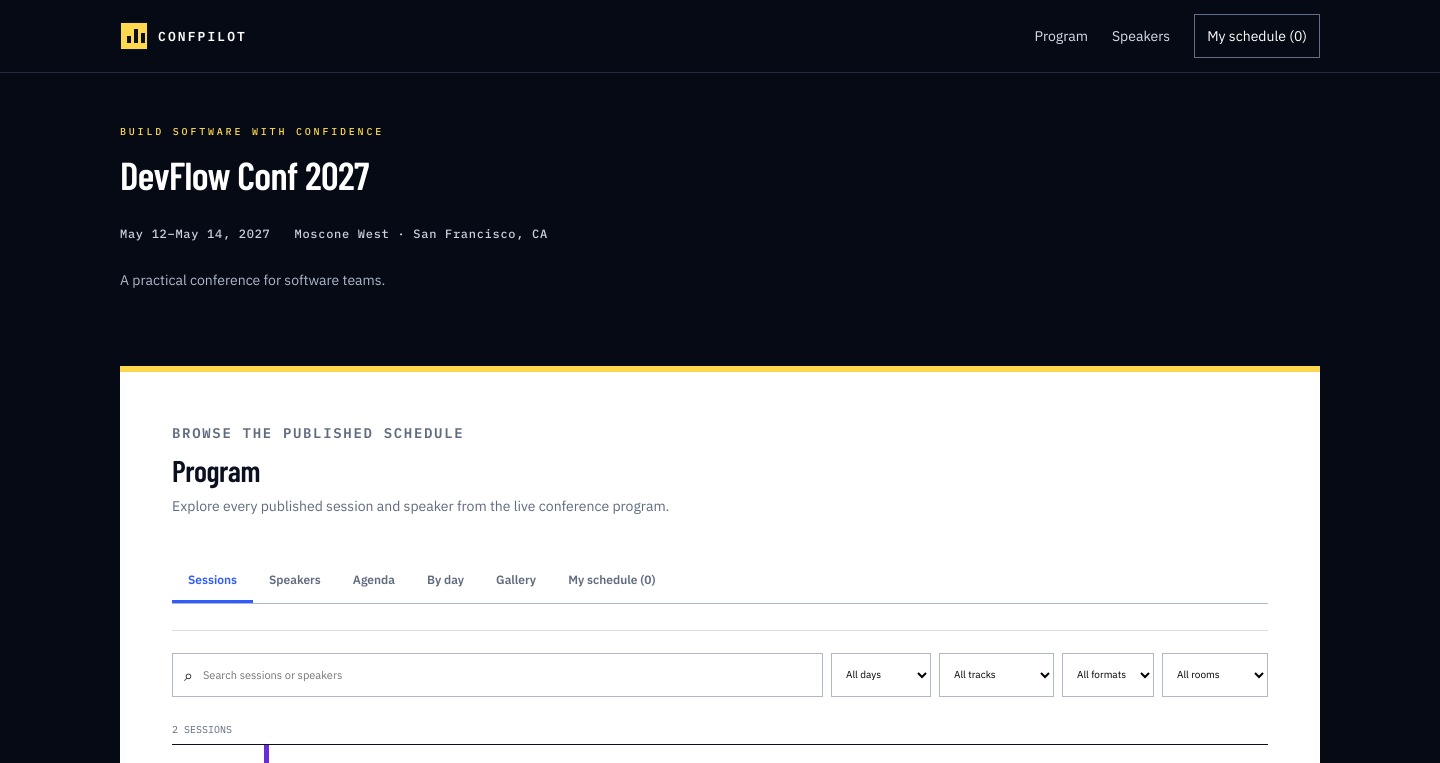
Test: shows complete itinerary and speaker-session metadata
Click the button "By day" at (446,580), box left=411, top=558, right=480, bottom=602
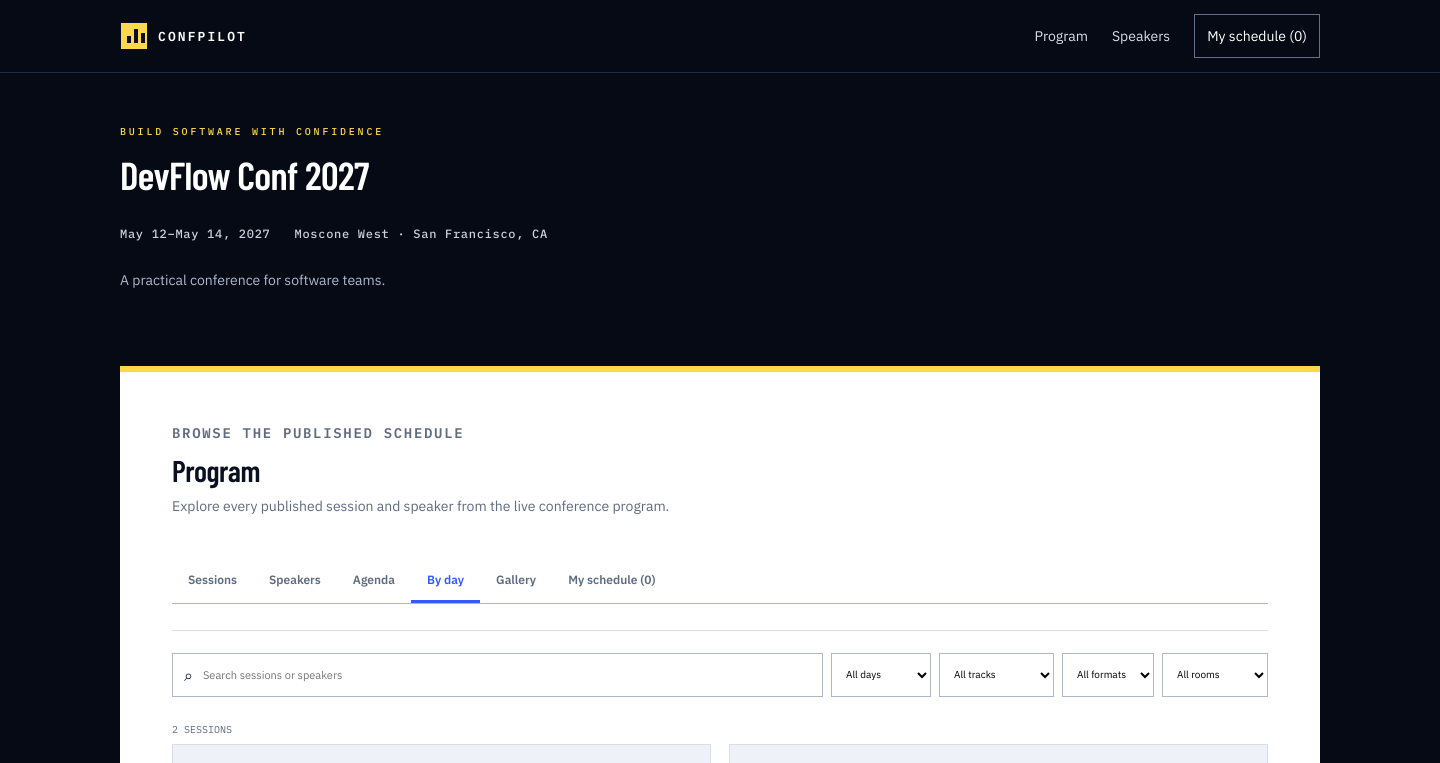
Click the button "Speakers" at (295,580), box left=253, top=558, right=337, bottom=602
(page scrolled)
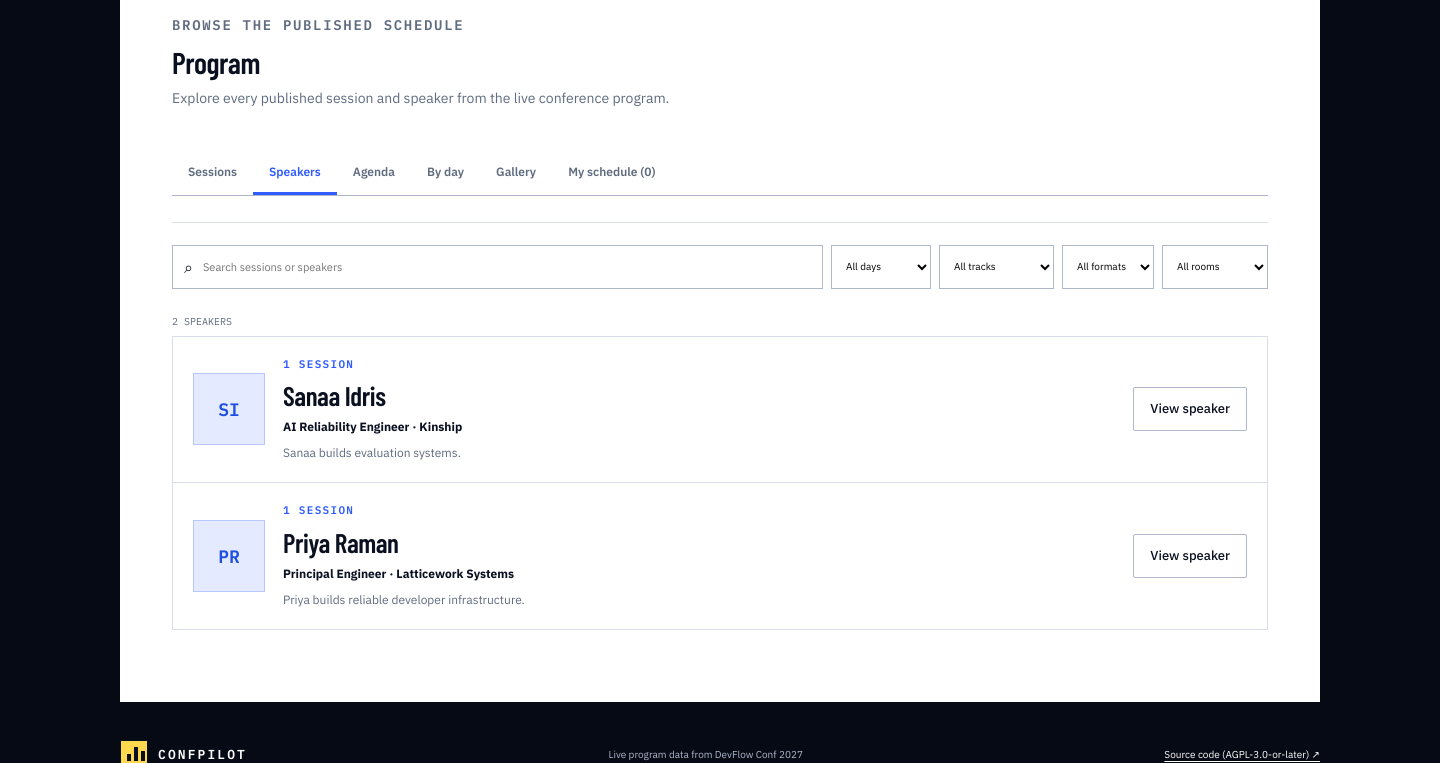
Click the button "View speaker" in the row of "Principal Engineer · Latticework Systems" at (1190,556), box left=1133, top=534, right=1247, bottom=578
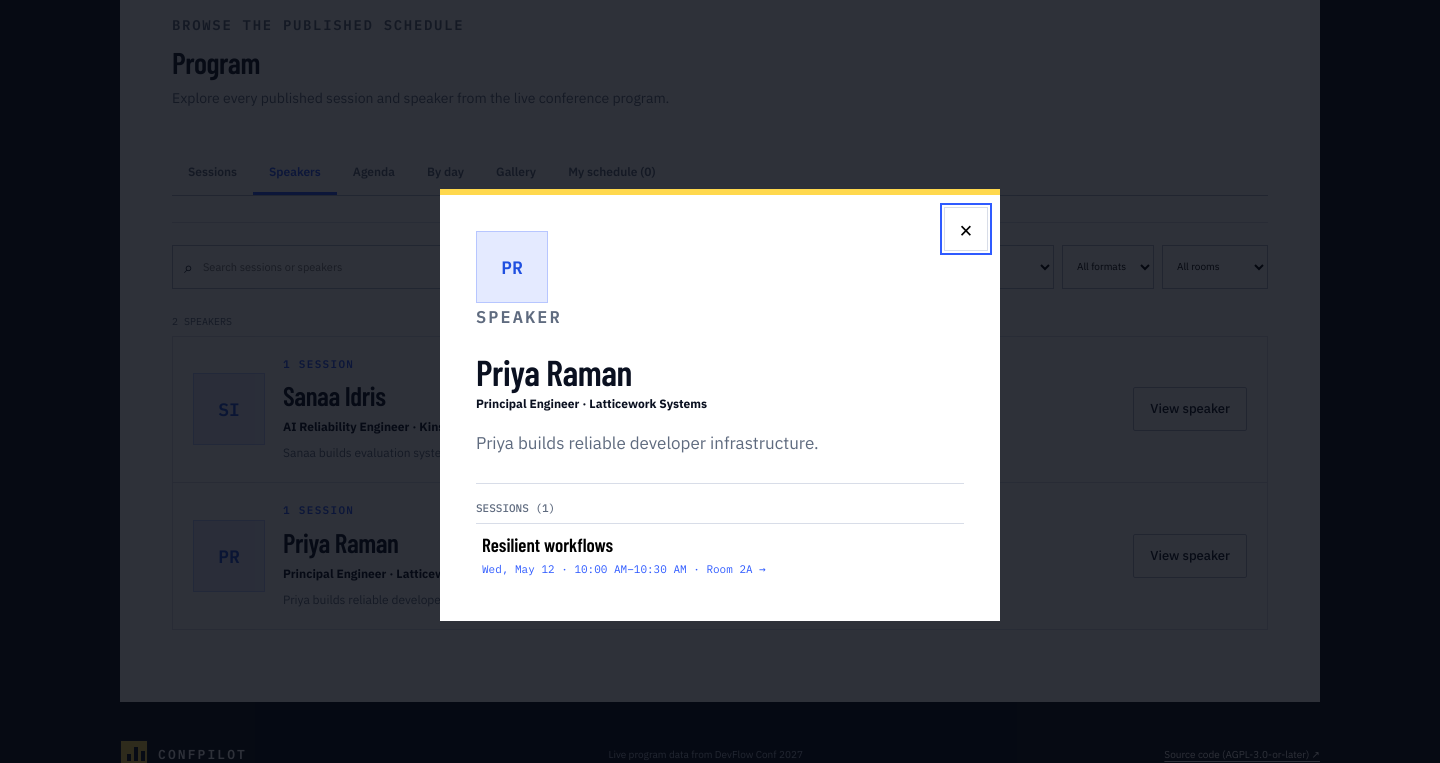
Now the text "Sessions (1)" is shown, box left=476, top=501, right=555, bottom=515
Now the text "Wed, May 12 · 10:00 AM–10:30 AM · Room 2A →" is shown, box left=482, top=562, right=766, bottom=576
